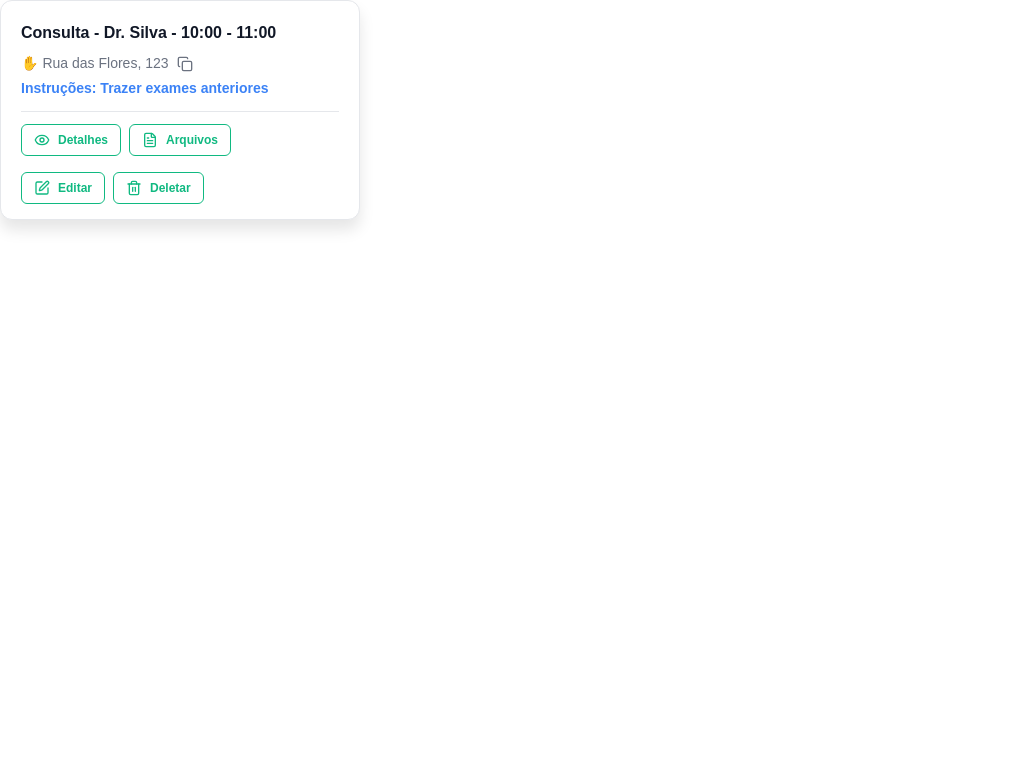
Test: EventCard › shows uploaded file status when initialFiles are provided
The width and height of the screenshot is (1024, 768).
Click the button "Arquivos" at (180, 140), box [129, 124, 231, 156]
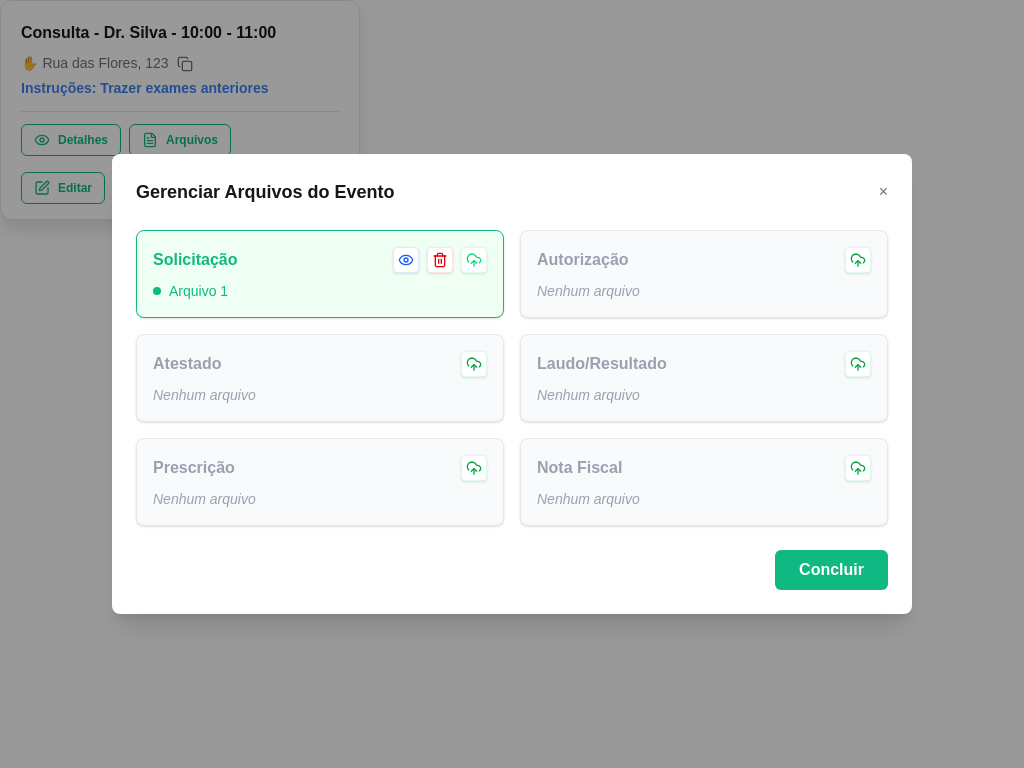
Expected: the text "Arquivo 1" is shown, [153, 283, 228, 299]
